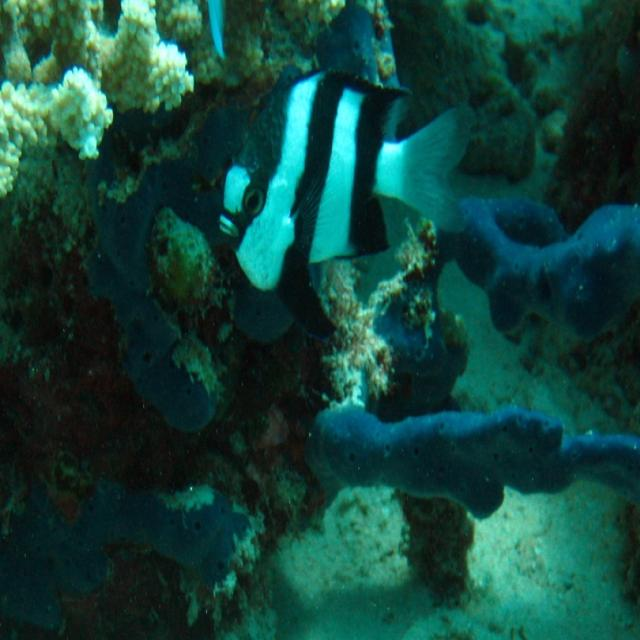ThreeStripedDamselfish: (215, 62, 477, 294)
